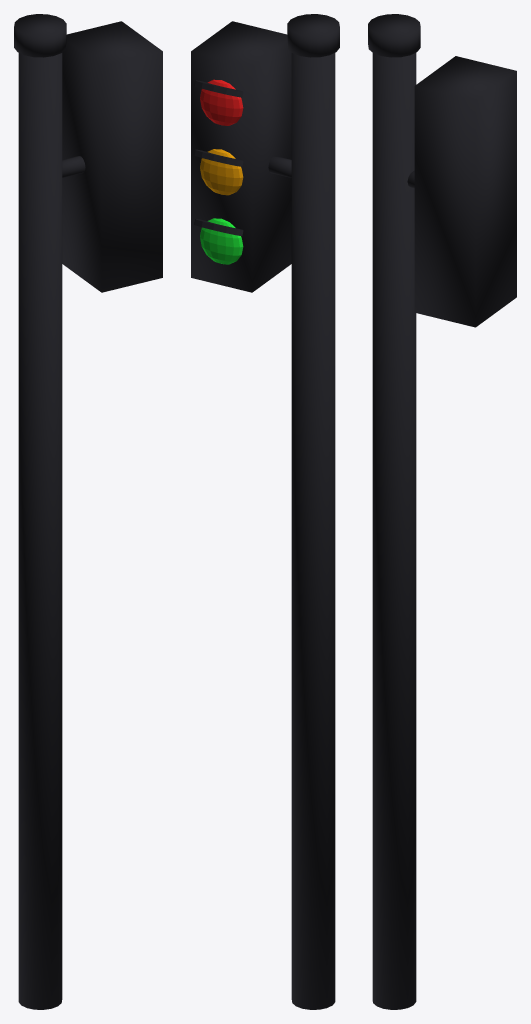
File: semaforo.obj
The picture shows the model from 3 angles, left to right: view 1: azimuth 30°, elevation 25°; view 2: azimuth 150°, elevation 25°; view 3: azimuth 330°, elevation 25°; orthographic projection.
Parts seen in each view (by area): view 1: Poste_Semaforo, Caja_Semaforo, Tapa_Poste_Semaforo, Abrazadera_Semaforo; view 2: Poste_Semaforo, Caja_Semaforo, Tapa_Poste_Semaforo, Lente_Verde, Lente_Ambar, Lente_Rojo, Abrazadera_Semaforo, Visera_Ambar, Visera_Verde, Visera_Roja; view 3: Poste_Semaforo, Caja_Semaforo, Tapa_Poste_Semaforo.
Part boxes in pixels (x1=…): Poste_Semaforo: x1=18, y1=53, x2=62, y2=1009; Caja_Semaforo: x1=62, y1=21, x2=162, y2=292; Tapa_Poste_Semaforo: x1=14, y1=14, x2=66, y2=57; Abrazadera_Semaforo: x1=62, y1=156, x2=85, y2=177; Poste_Semaforo: x1=291, y1=53, x2=335, y2=1009; Caja_Semaforo: x1=191, y1=21, x2=291, y2=292; Tapa_Poste_Semaforo: x1=287, y1=14, x2=339, y2=57; Lente_Verde: x1=200, y1=218, x2=243, y2=264; Lente_Ambar: x1=200, y1=149, x2=243, y2=195; Lente_Rojo: x1=200, y1=79, x2=243, y2=125; Abrazadera_Semaforo: x1=268, y1=156, x2=291, y2=177; Visera_Ambar: x1=194, y1=149, x2=243, y2=166; Visera_Verde: x1=194, y1=218, x2=243, y2=235; Visera_Roja: x1=194, y1=80, x2=243, y2=97; Poste_Semaforo: x1=372, y1=53, x2=416, y2=1009; Caja_Semaforo: x1=414, y1=56, x2=516, y2=327; Tapa_Poste_Semaforo: x1=368, y1=14, x2=420, y2=57.
Size of the model in its own units: 0.49 by 3.66 by 0.3389.
